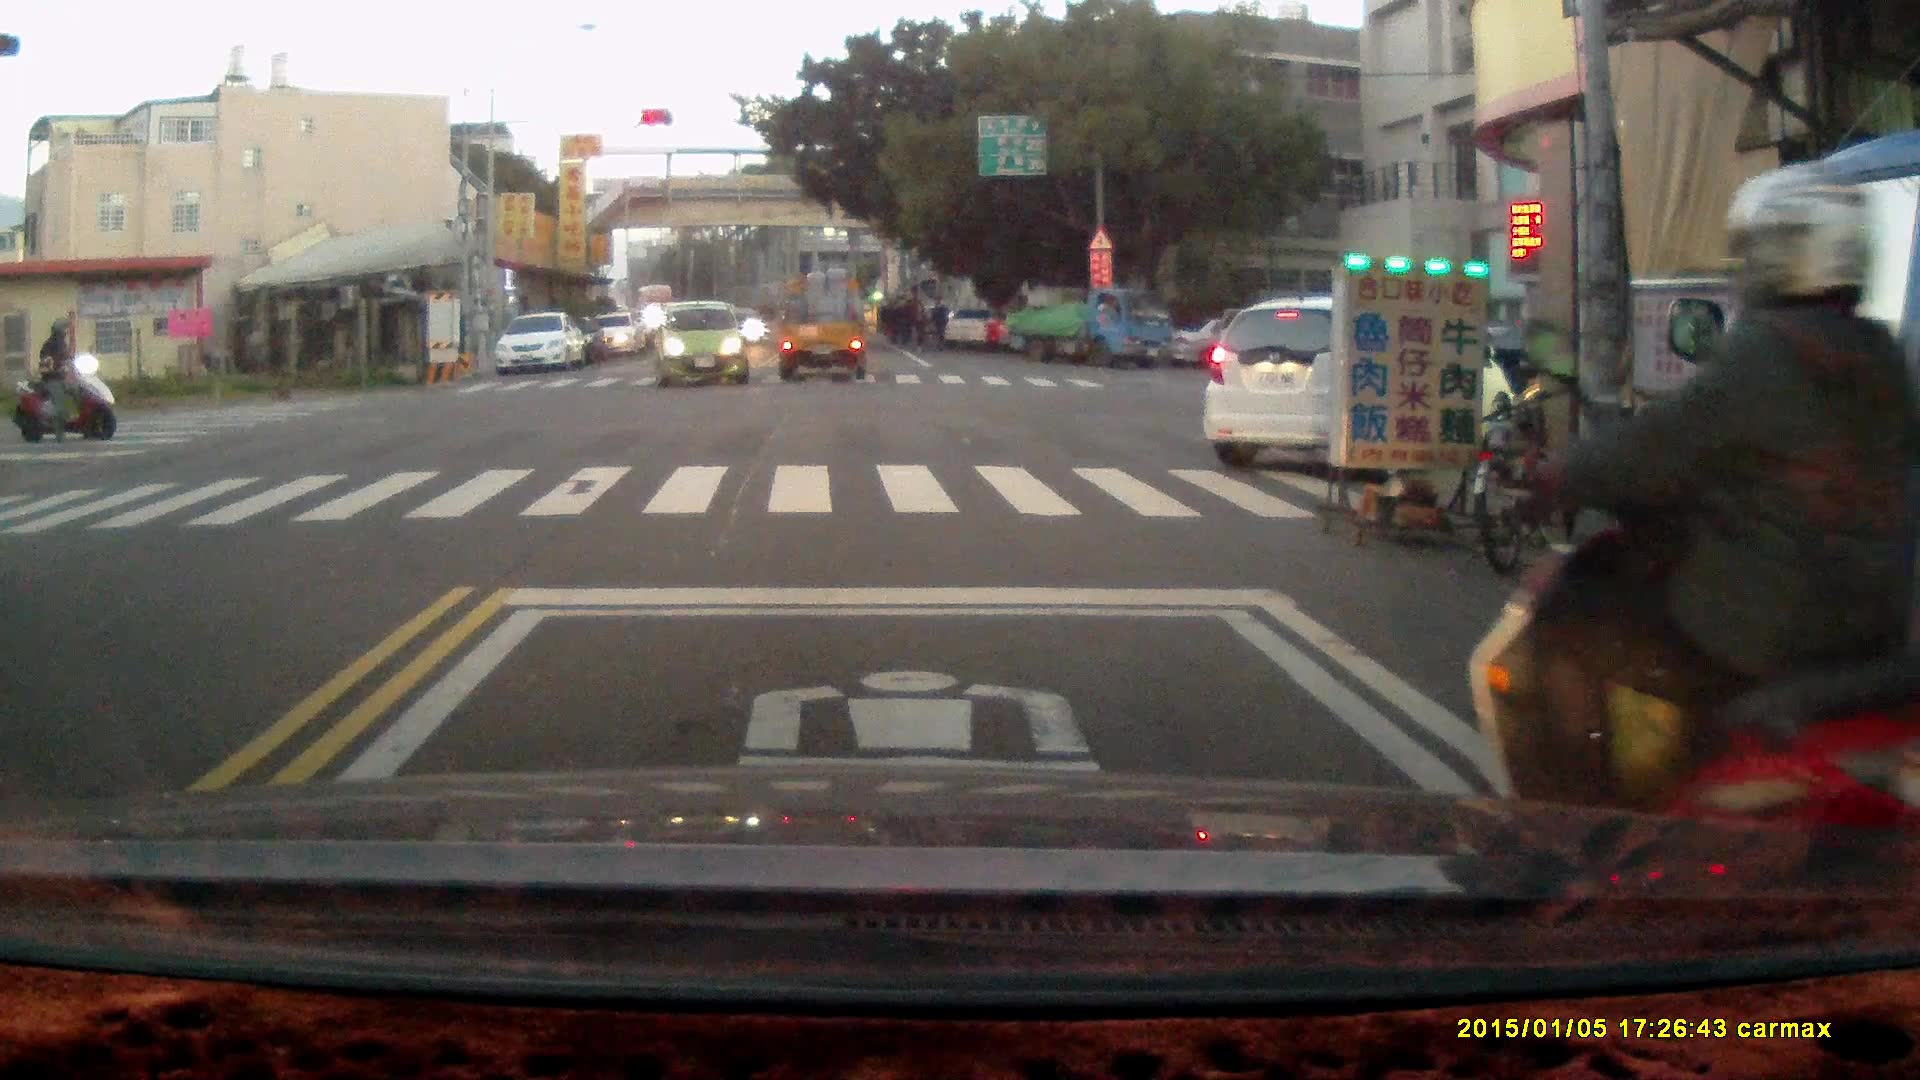rider: (1461, 163, 1920, 931), (10, 316, 119, 440)
vehicle: (1599, 132, 1920, 915), (1203, 293, 1516, 466), (1002, 284, 1174, 367), (778, 258, 873, 384), (659, 297, 758, 389), (499, 313, 587, 378), (592, 311, 642, 360)
